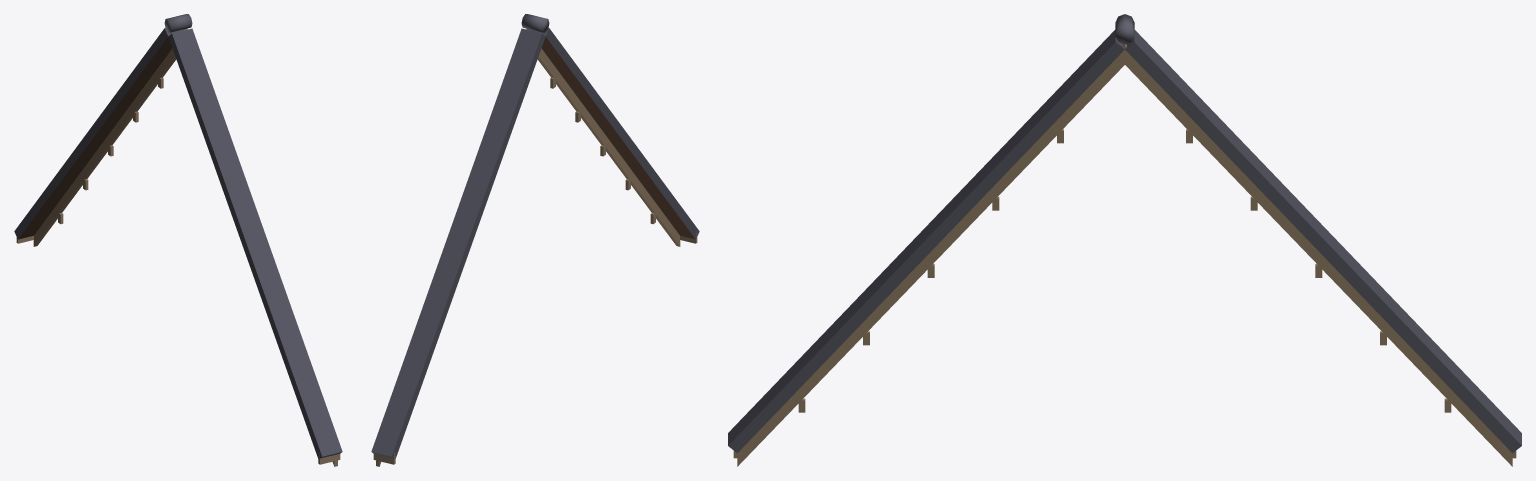
Rendered from kit_clapboard_slate_w5_end.glb.
The picture shows the model from 3 angles, left to right: view 1: azimuth 30°, elevation 25°; view 2: azimuth 150°, elevation 25°; view 3: azimuth 270°, elevation 25°; orthographic projection. The views are drawn at different scales.
Visible parts, largest first — view 1: kit_clapboard_slate_w5_end; view 2: kit_clapboard_slate_w5_end; view 3: kit_clapboard_slate_w5_end.
Part boxes in pixels (<box>): kit_clapboard_slate_w5_end: <box>14,14,342,466</box>; kit_clapboard_slate_w5_end: <box>371,14,699,466</box>; kit_clapboard_slate_w5_end: <box>728,14,1521,466</box>.
Size of the model in its own units: 0.22 by 3.51 by 5.74.
